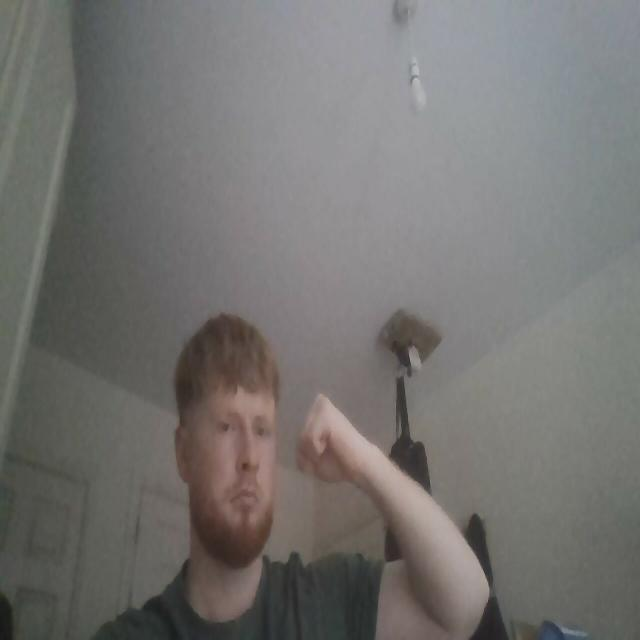rock: (294, 396, 360, 486)
